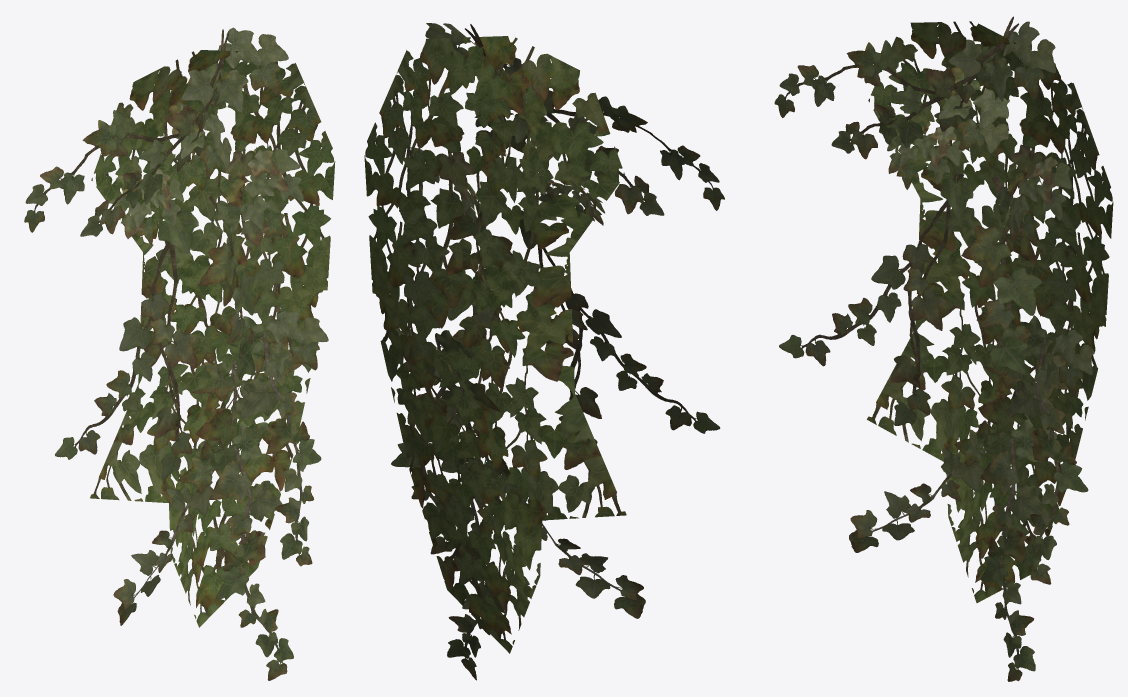
The model's file is ivy04lod0.dae.
3 views of the same model, side by side, from view 1: azimuth 30°, elevation 25°; view 2: azimuth 150°, elevation 25°; view 3: azimuth 330°, elevation 25° (orthographic). The views are drawn at different scales.
Visible parts, largest first — view 1: SM_Ivy_04_LOD; view 2: SM_Ivy_04_LOD; view 3: SM_Ivy_04_LOD.
Boxes of the visible parts, box(x1,y1,x2,y2) form: SM_Ivy_04_LOD: box(24, 27, 335, 680); SM_Ivy_04_LOD: box(364, 23, 724, 680); SM_Ivy_04_LOD: box(774, 16, 1113, 681).
Size of the model in its own units: 0.9466 by 1.75 by 0.1906.
